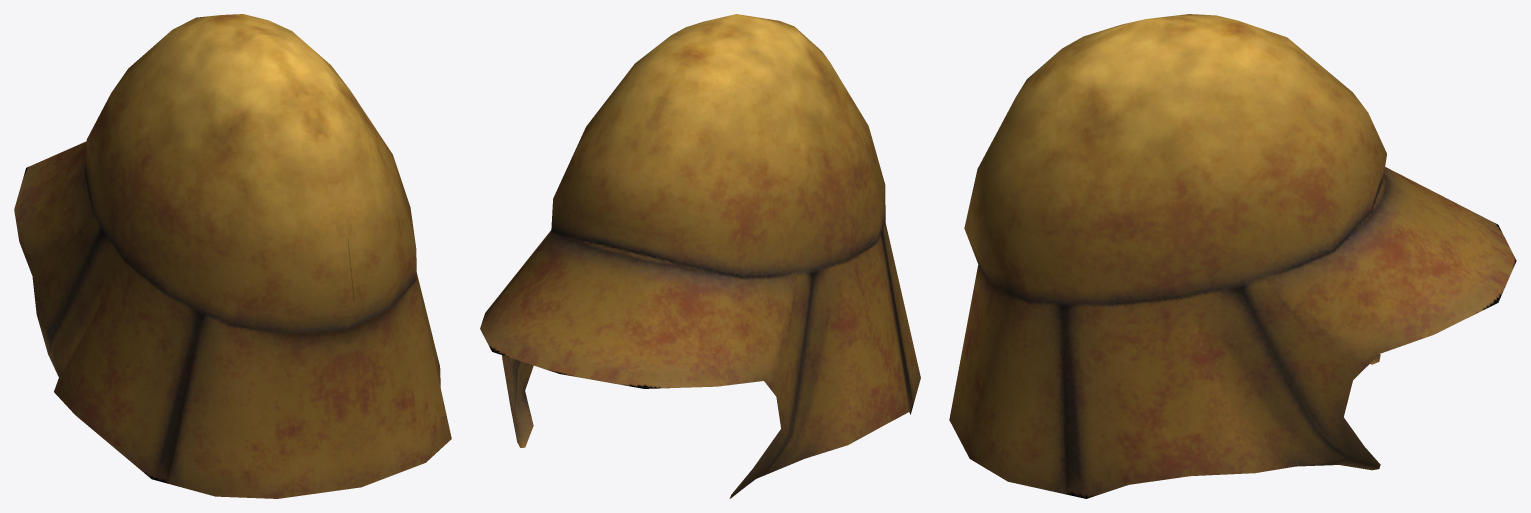
File: helm_hele_boeotian_b2.glb
The picture shows the model from 3 angles, left to right: view 1: azimuth 30°, elevation 25°; view 2: azimuth 150°, elevation 25°; view 3: azimuth 270°, elevation 25°; orthographic projection. The views are drawn at different scales.
Parts seen in each view (by area): view 1: helm_hele_boeotian_b2_part0; view 2: helm_hele_boeotian_b2_part0; view 3: helm_hele_boeotian_b2_part0.
Part boxes in pixels (box(x1,y1,x2,y2)): helm_hele_boeotian_b2_part0: box(14, 14, 451, 498); helm_hele_boeotian_b2_part0: box(480, 14, 920, 498); helm_hele_boeotian_b2_part0: box(949, 14, 1516, 498).
Size of the model in its own units: 0.5418 by 0.5758 by 0.7309.
Materials: 1 (1 with a texture image).
